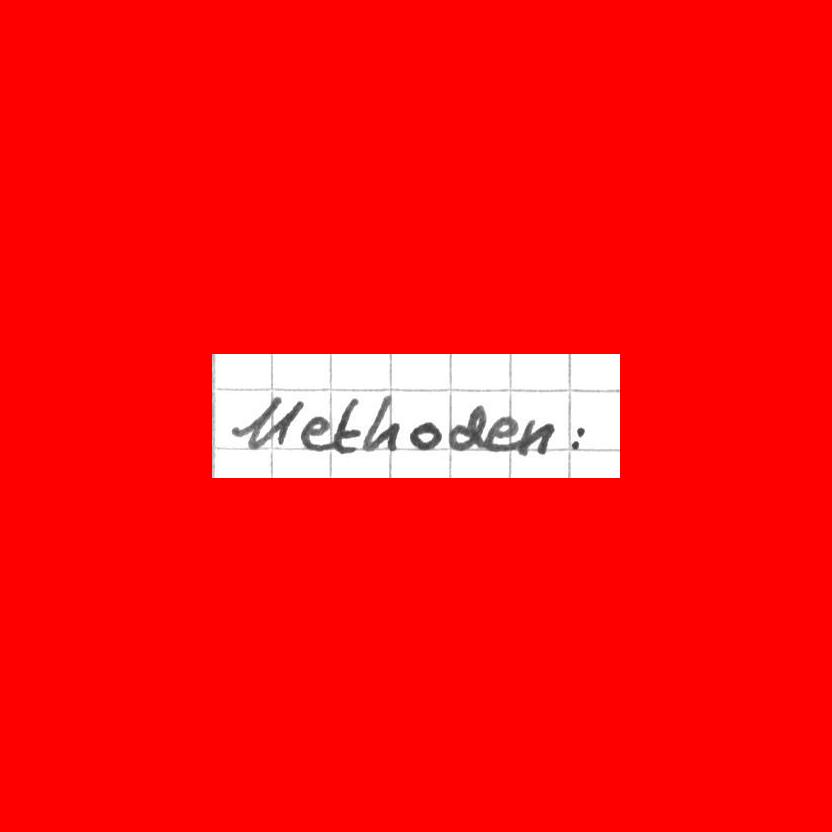Char: (231, 395, 302, 451), (363, 389, 399, 458), (331, 391, 363, 460), (447, 401, 487, 452), (517, 417, 557, 458), (297, 414, 334, 452), (486, 416, 519, 452), (407, 420, 440, 452), (569, 422, 586, 451)
